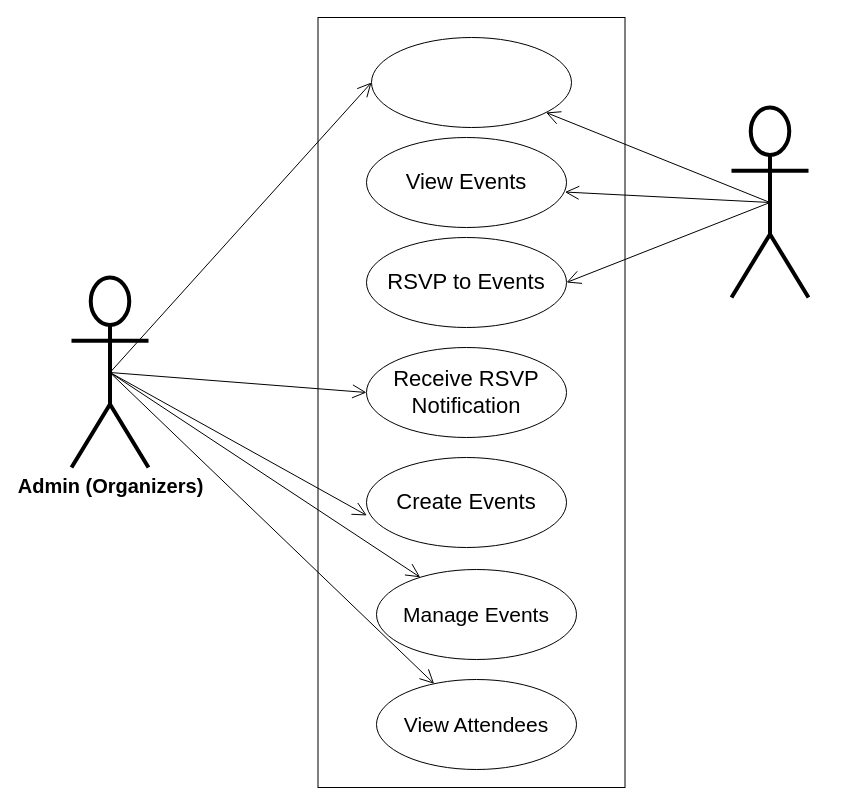
This 852x805 diagram has some shape labels left out. Each missing label, with the centre of its shape:
Login / Logout: [471,82]
Users/Guests: [769,202]
